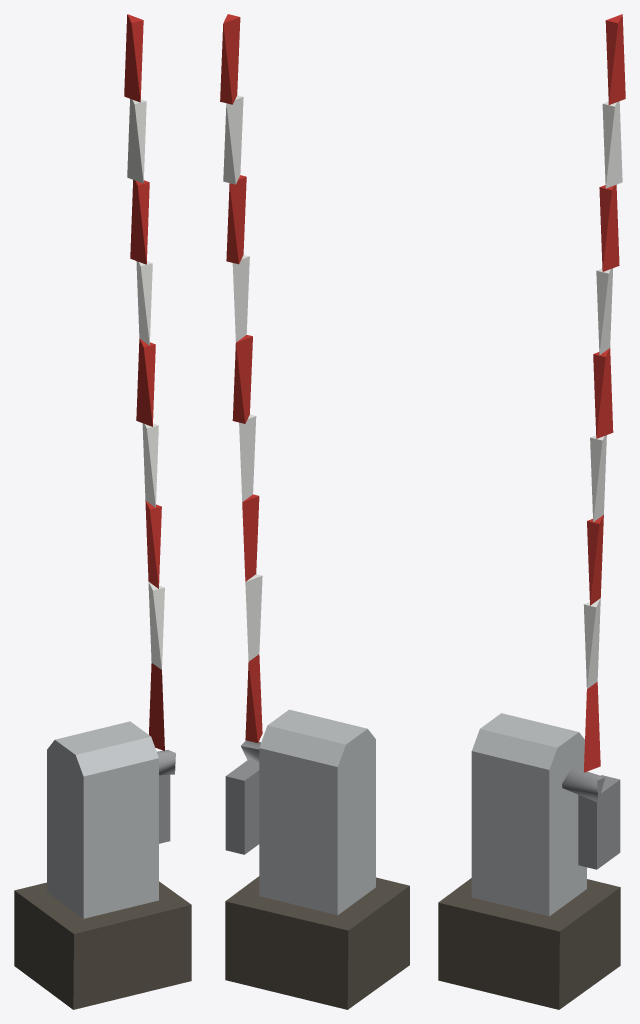
Rendered from crossing-barrier-lod1.glb.
The picture shows the model from 3 angles, left to right: view 1: azimuth 30°, elevation 25°; view 2: azimuth 150°, elevation 25°; view 3: azimuth 330°, elevation 25°; orthographic projection. The views are drawn at different scales.
Parts seen in each view (by area): view 1: crossing-barrier-0.001; view 2: crossing-barrier-0.001; view 3: crossing-barrier-0.001.
Part boxes in pixels (bbox=[...]): crossing-barrier-0.001: bbox=[14, 14, 191, 1009]; crossing-barrier-0.001: bbox=[220, 14, 409, 1009]; crossing-barrier-0.001: bbox=[438, 14, 625, 1009].
Bounding box in the file's own units: 0.8513 × 5.83 × 0.7231.
